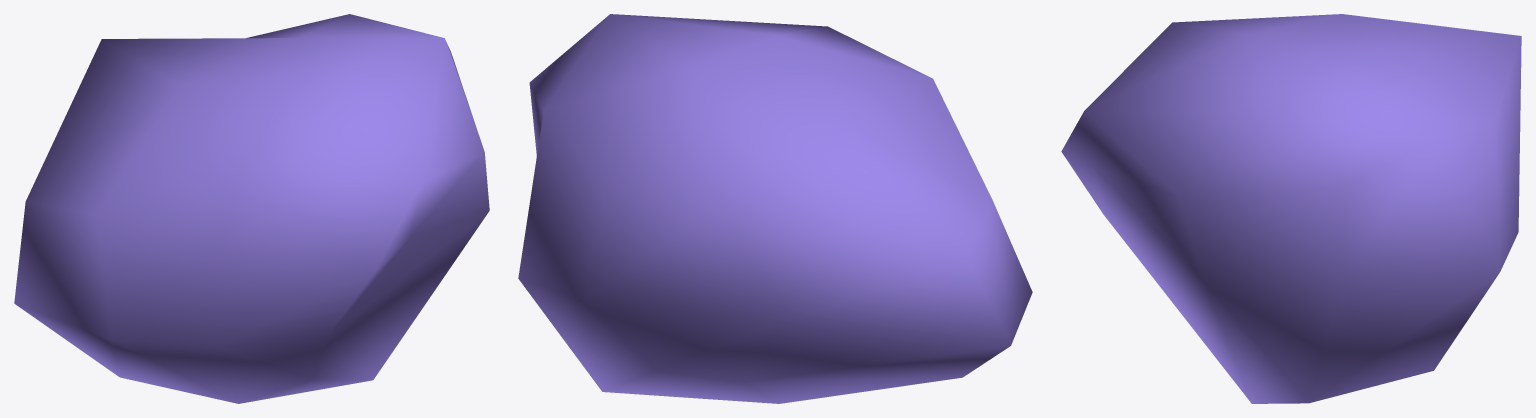
The model's file is rockLarge.glb.
3 renders of one model, left to right at view 1: azimuth 30°, elevation 25°; view 2: azimuth 150°, elevation 25°; view 3: azimuth 270°, elevation 25°, orthographic. The views are drawn at different scales.
Visible parts, largest first — view 1: Icosphere; view 2: Icosphere; view 3: Icosphere.
Boxes of the visible parts, <box> form: Icosphere: <box>14,14,489,403</box>; Icosphere: <box>518,14,1032,403</box>; Icosphere: <box>1061,14,1521,403</box>.
Size of the model in its own units: 4.18 by 2.91 by 3.6.
